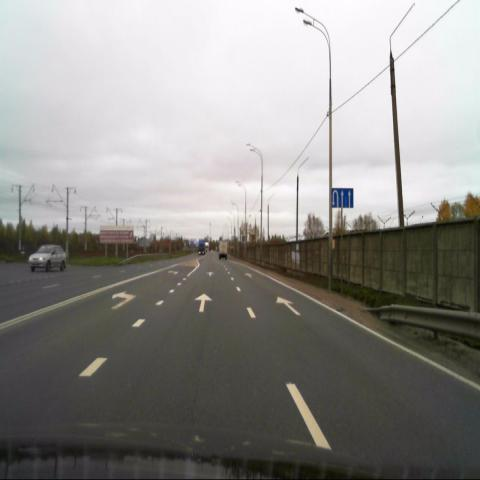5_15_1: (331, 188, 353, 207)
